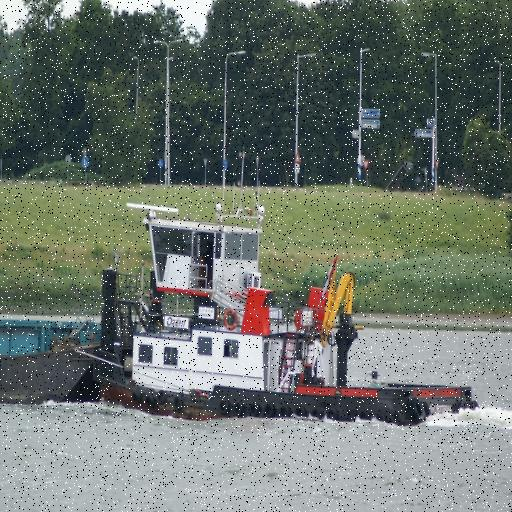tugboat: (90, 195, 483, 442)
